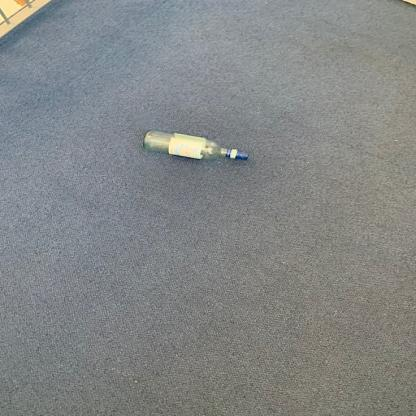trash: (143, 126, 255, 165)
